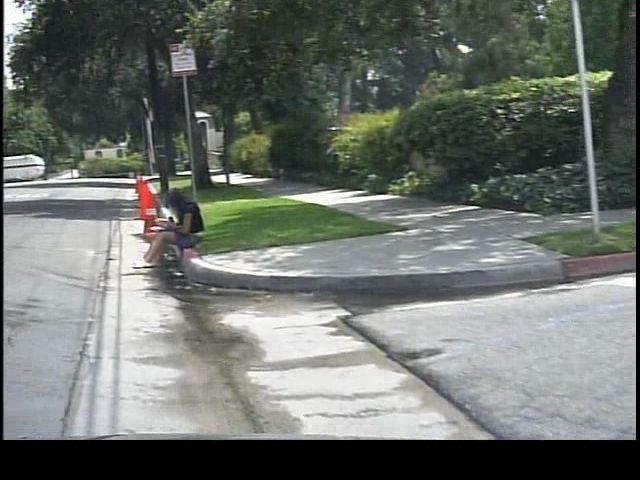person: (125, 181, 204, 273)
